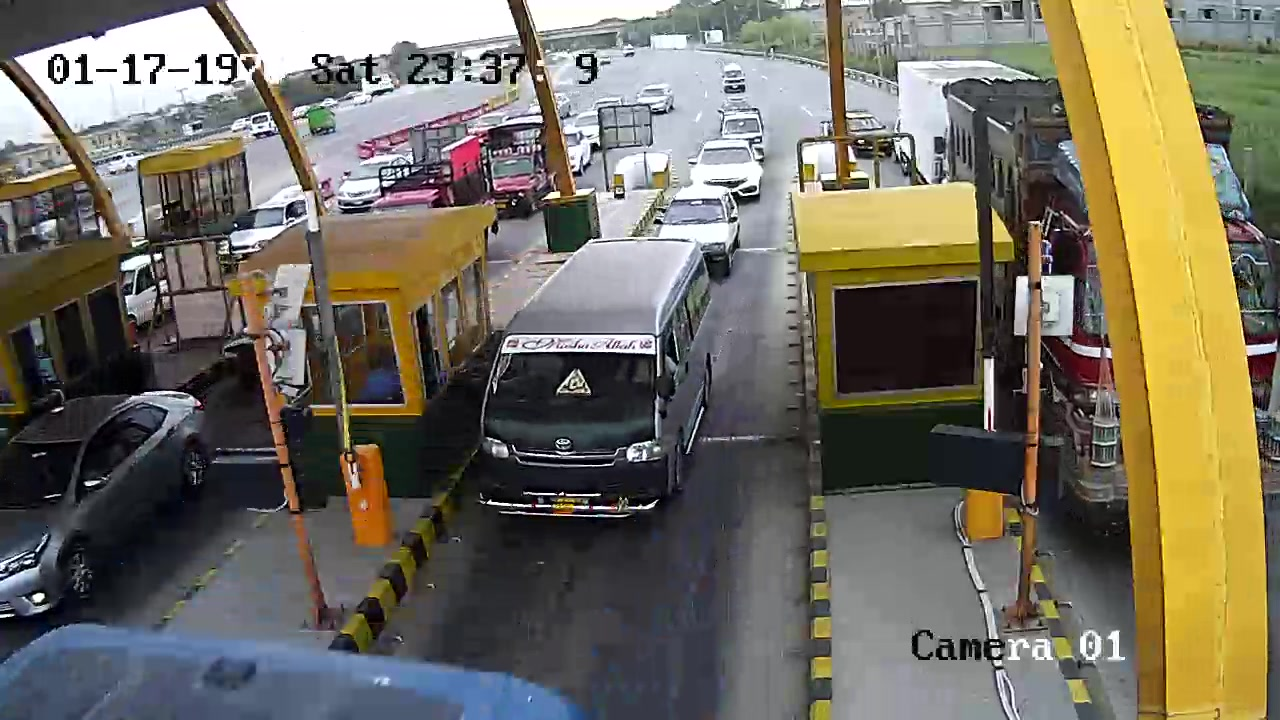F2: (465, 236, 721, 540)
